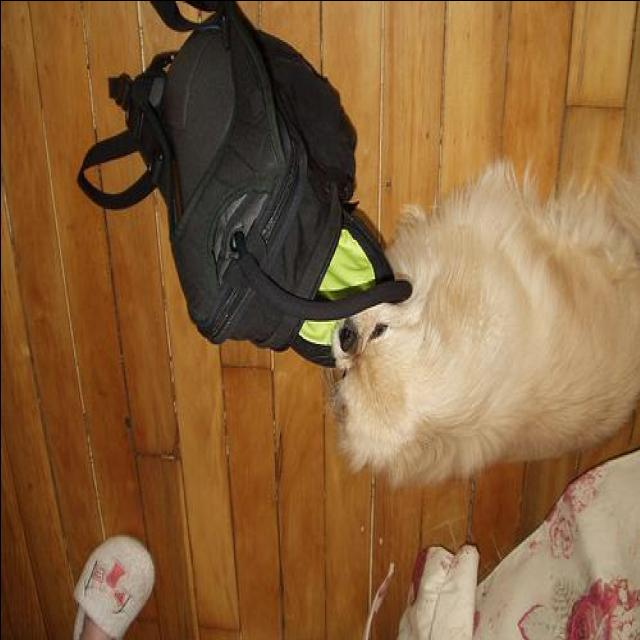pekinese: (321, 153, 638, 490)
